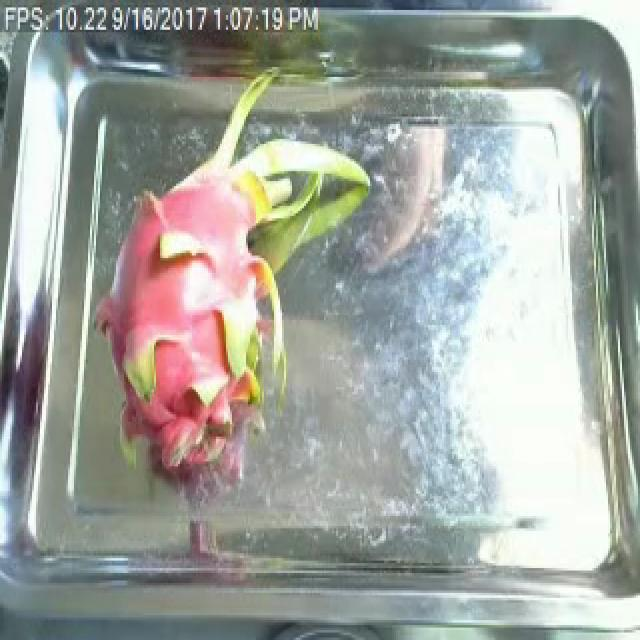fruit: (72, 80, 364, 503)
